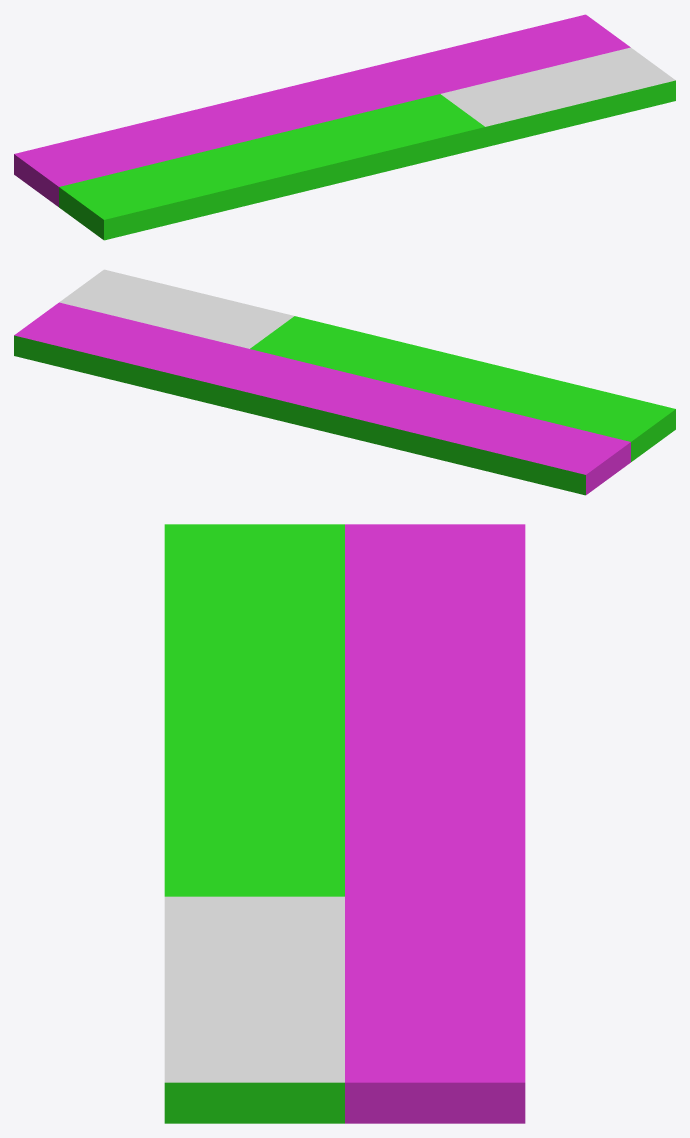
3 renders of one model, top to bottom at view 1: azimuth 30°, elevation 25°; view 2: azimuth 150°, elevation 25°; view 3: azimuth 270°, elevation 25°, orthographic. The views are drawn at different scales.
Visible parts, largest first — view 1: Cube; view 2: Cube; view 3: Cube.
Boxes of the visible parts, bbox=[...] form: Cube: bbox=[14, 14, 675, 240]; Cube: bbox=[14, 269, 675, 495]; Cube: bbox=[164, 524, 525, 1123].
Size of the model in its own units: 733 by 25.14 by 200.
